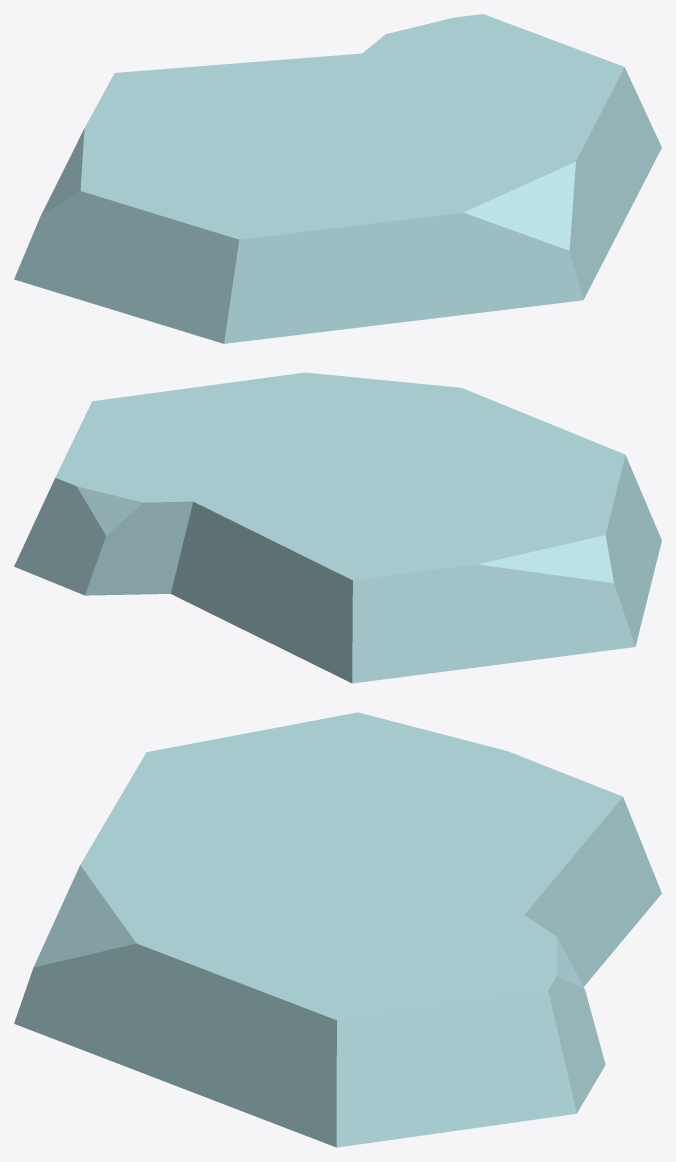
The model's file is stone_smallFlatC.glb.
3 renders of one model, top to bottom at view 1: azimuth 30°, elevation 25°; view 2: azimuth 150°, elevation 25°; view 3: azimuth 270°, elevation 25°, orthographic. The views are drawn at different scales.
Visible parts, largest first — view 1: stone_smallFlatC; view 2: stone_smallFlatC; view 3: stone_smallFlatC.
Part boxes in pixels (<box>): stone_smallFlatC: <box>14,14,661,343</box>; stone_smallFlatC: <box>14,372,661,683</box>; stone_smallFlatC: <box>14,712,661,1147</box>.
Size of the model in its own units: 0.4704 by 0.0649 by 0.3603.
